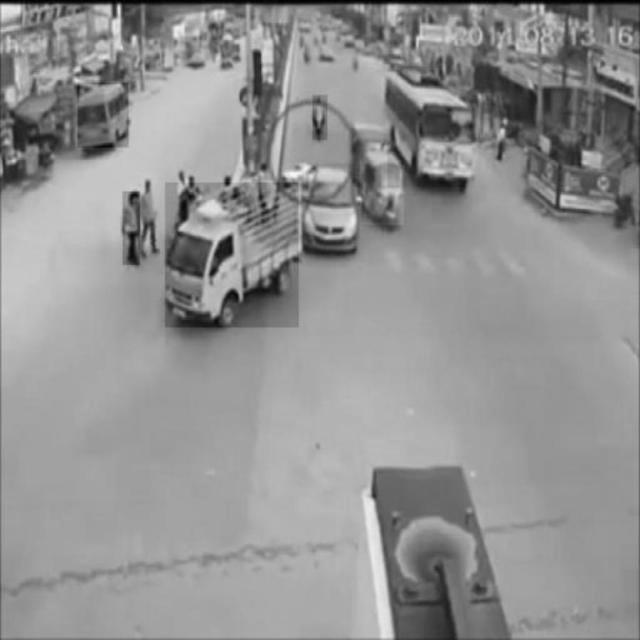person: (123, 192, 140, 265), (143, 180, 157, 251)
vehicle: (165, 183, 299, 327), (388, 70, 474, 188), (306, 164, 354, 255), (78, 82, 129, 148), (365, 142, 405, 224), (313, 95, 328, 140)
